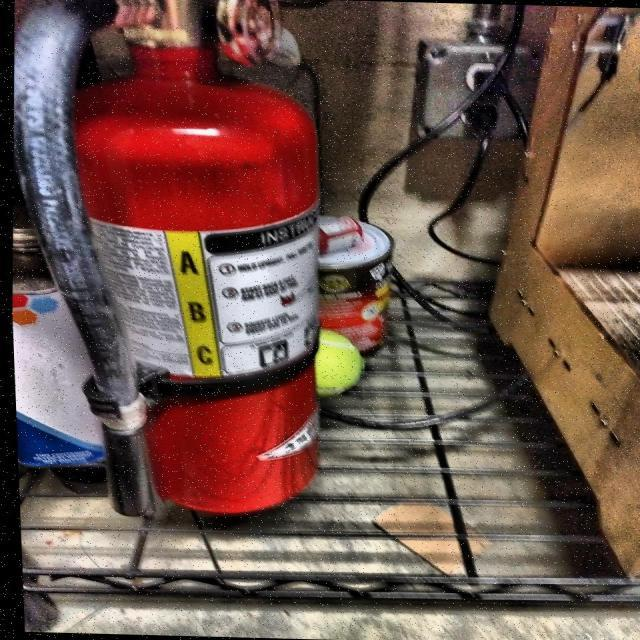tennis-ball: (308, 326, 366, 404)
